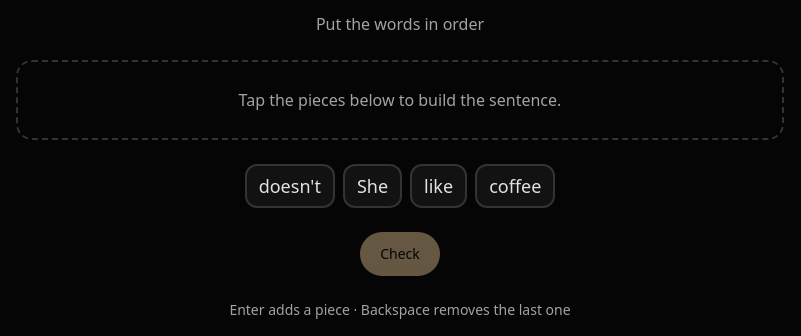
Scenario: SentenceOrderPlayer › can show the answer after a wrong try
Click the button with aria-label "Add “coffee”".
click(515, 186)  # box [475,164,555,208]
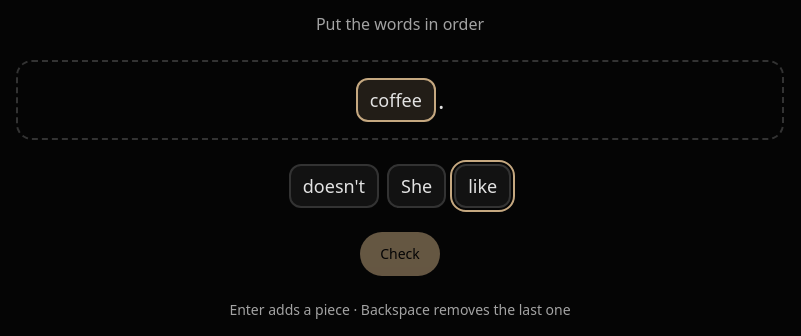
Click the button "She".
click(417, 186)  # box [387,164,446,208]
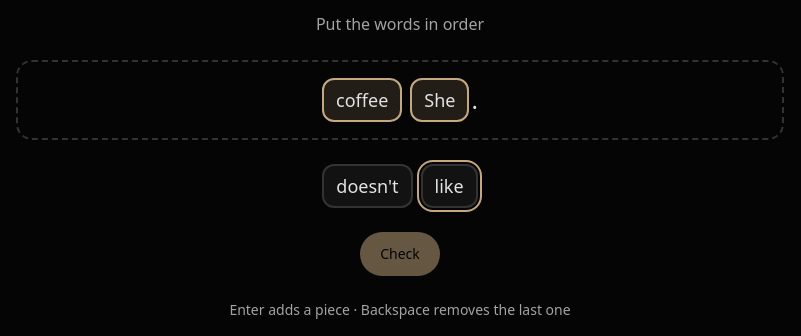
Click the button "doesn't".
click(367, 186)  # box [322,164,412,208]
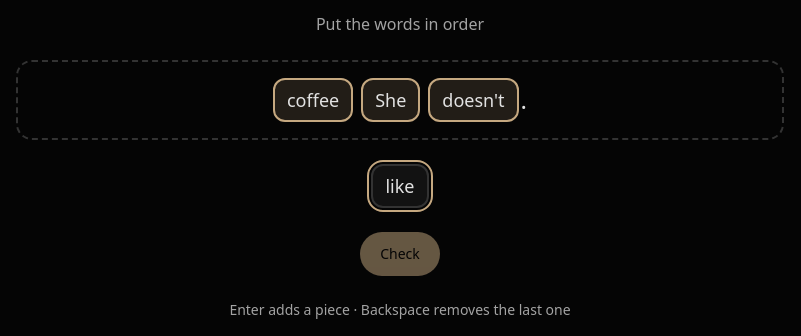
Click the button "like".
click(400, 186)  # box [372,164,429,208]
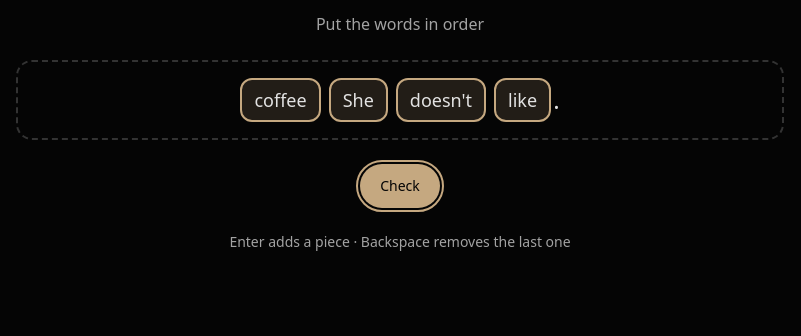
Click the button "Check".
click(400, 186)  # box [360,164,440,208]
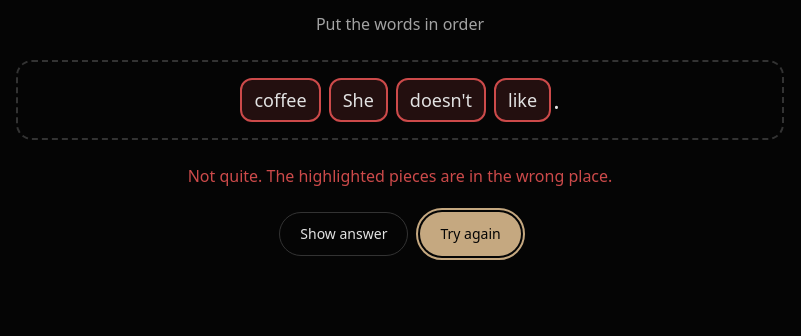
Click the button "Show answer".
click(344, 234)  # box [279,212,408,256]
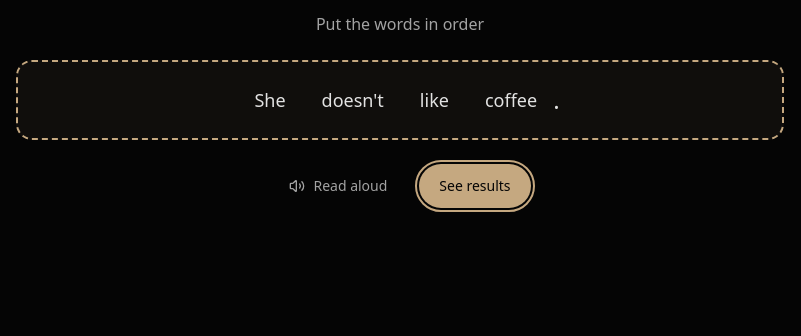
Expected: the button "See results" is shown, [419,164,531,208]
